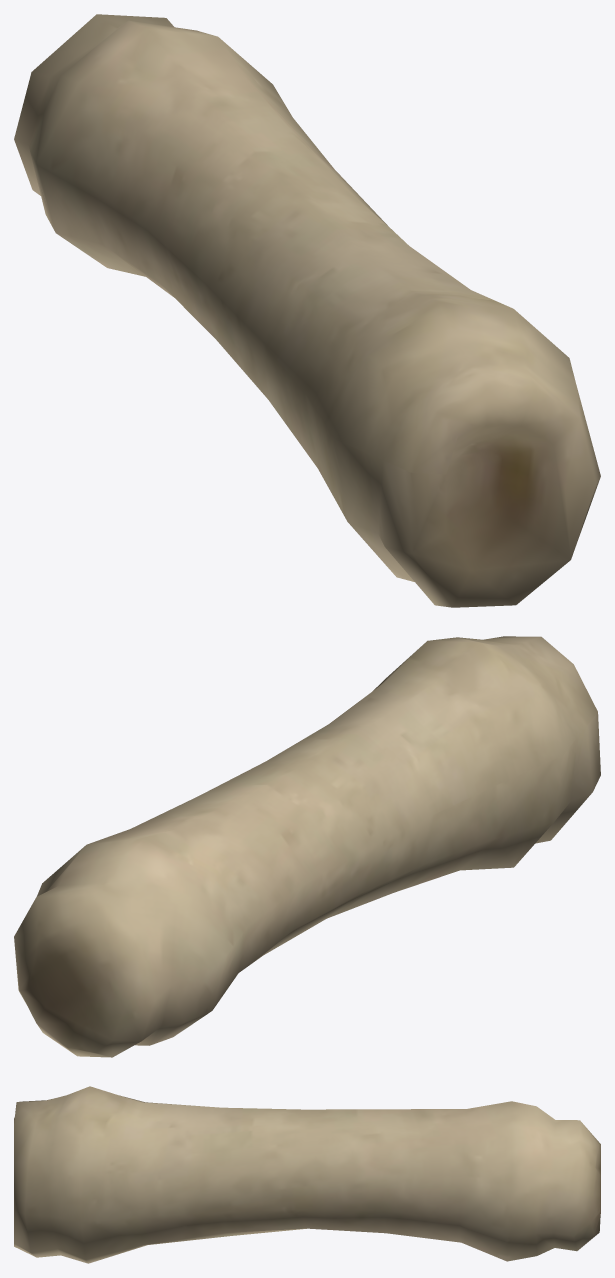
Rendered from Caudal_Vertebrae14.glb.
3 renders of one model, top to bottom at view 1: azimuth 30°, elevation 25°; view 2: azimuth 150°, elevation 25°; view 3: azimuth 270°, elevation 25°, orthographic. The views are drawn at different scales.
Visible parts, largest first — view 1: Caudal_Vertebrae_33:Group26605; view 2: Caudal_Vertebrae_33:Group26605; view 3: Caudal_Vertebrae_33:Group26605.
Boxes of the visible parts, x1,y1,x2,y2 form: Caudal_Vertebrae_33:Group26605: [14, 14, 600, 607]; Caudal_Vertebrae_33:Group26605: [14, 636, 600, 1057]; Caudal_Vertebrae_33:Group26605: [14, 1086, 600, 1263].
Bounding box in the file's own units: 5.53 × 5.19 × 16.25.
1 material, 1 textured.
